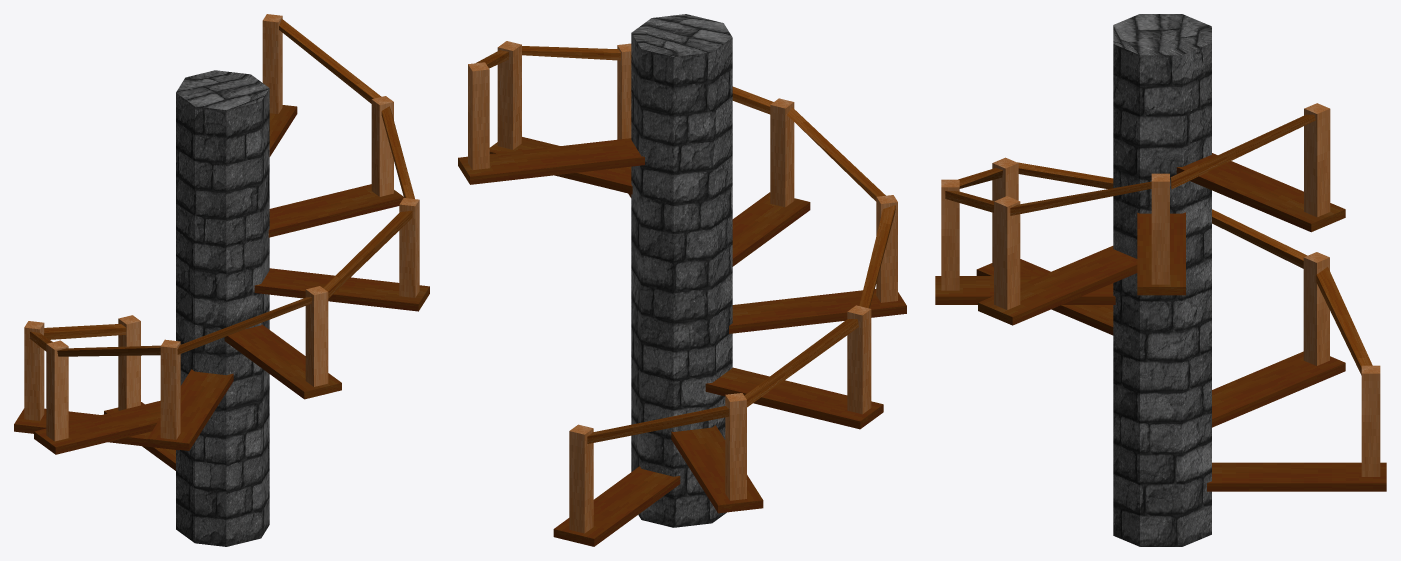
The model's file is WIPStair1.glb.
The picture shows the model from 3 angles, left to right: view 1: azimuth 30°, elevation 25°; view 2: azimuth 150°, elevation 25°; view 3: azimuth 270°, elevation 25°; orthographic projection. The views are drawn at different scales.
Visible parts, largest first — view 1: Cube, Cube.006, Cube.007, Cube.005, Cube.003, Cube.004, Cube.013, Cube.011, Cube.012, Cube.015, Cube.014, Cube.010 (+10 smaller); view 2: Cube, Cube.008, Cube.004, Cube.003, Cube.001, Cube.002, Cube.005, Cube.009, Cube.013, Cube.015, Cube.011, Cube.016 (+10 smaller); view 3: Cube, Cube.001, Cube.006, Cube.008, Cube.002, Cube.014, Cube.016, Cube.007, Cube.010, Cube.009, Cube.015, Cube.005 (+9 smaller).
Part boxes in pixels (bbox=[...]): Cube: bbox=[176, 70, 269, 546]; Cube.006: bbox=[254, 268, 429, 311]; Cube.007: bbox=[268, 184, 403, 237]; Cube.005: bbox=[224, 324, 341, 399]; Cube.003: bbox=[34, 400, 160, 454]; Cube.004: bbox=[147, 369, 233, 450]; Cube.013: bbox=[305, 286, 328, 386]; Cube.011: bbox=[46, 340, 68, 441]; Cube.012: bbox=[160, 339, 180, 439]; Cube.015: bbox=[371, 96, 393, 196]; Cube.014: bbox=[399, 198, 419, 297]; Cube.010: bbox=[24, 321, 44, 420]; Cube: bbox=[631, 14, 732, 527]; Cube.008: bbox=[458, 138, 644, 184]; Cube.004: bbox=[729, 289, 906, 333]; Cube.003: bbox=[705, 367, 883, 429]; Cube.001: bbox=[553, 466, 680, 546]; Cube.002: bbox=[671, 425, 763, 513]; Cube.005: bbox=[732, 192, 810, 266]; Cube.009: bbox=[569, 424, 593, 533]; Cube.013: bbox=[770, 98, 794, 207]; Cube.015: bbox=[497, 41, 521, 149]; Cube.011: bbox=[847, 305, 871, 414]; Cube.016: bbox=[468, 62, 489, 169]; Cube: bbox=[1113, 14, 1211, 546]; Cube.001: bbox=[1207, 462, 1386, 491]; Cube.006: bbox=[978, 246, 1137, 325]; Cube.008: bbox=[1176, 153, 1345, 232]; Cube.002: bbox=[1212, 351, 1345, 427]; Cube.014: bbox=[994, 196, 1020, 309]; Cube.016: bbox=[1304, 103, 1330, 217]; Cube.007: bbox=[1137, 212, 1185, 295]; Cube.010: bbox=[1303, 252, 1329, 365]; Cube.009: bbox=[1361, 365, 1380, 476]; Cube.015: bbox=[1151, 173, 1169, 284]; Cube.005: bbox=[935, 276, 1115, 304].
Size of the model in its own units: 1.58 by 1.9 by 1.58.
4 materials, 4 textured.
